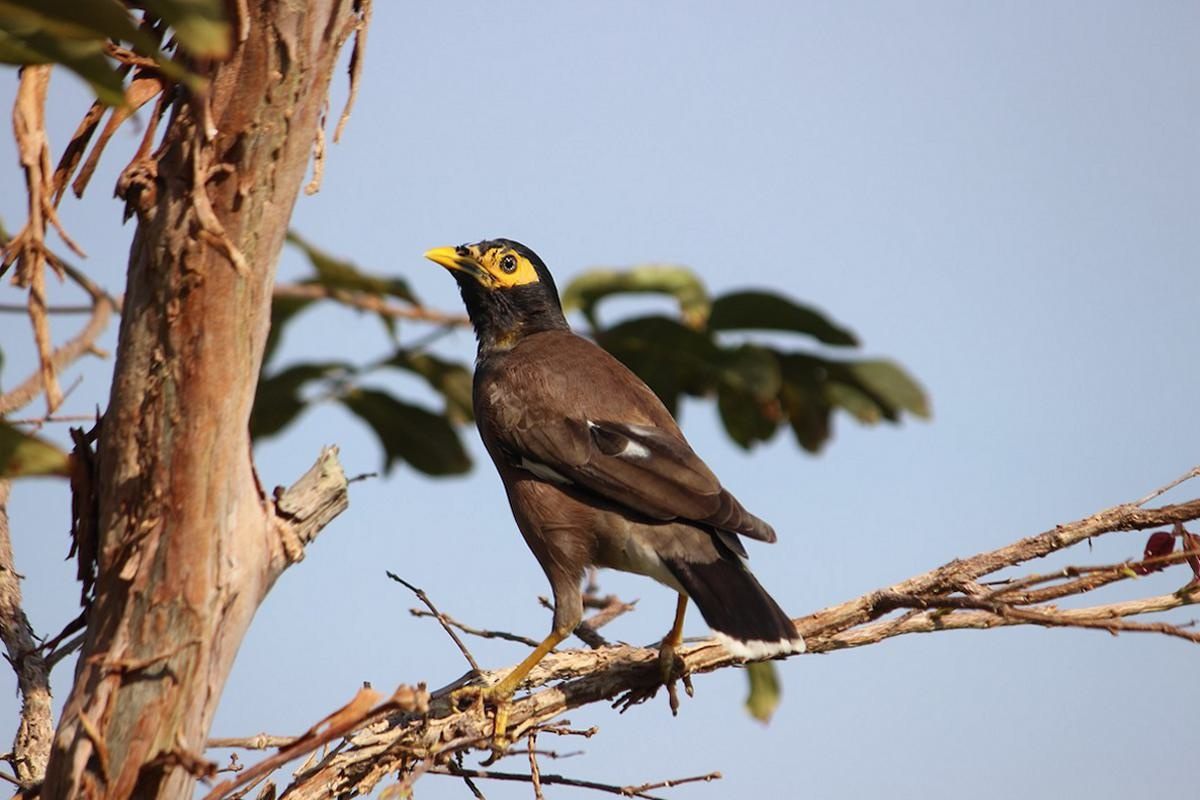myna: (394, 214, 788, 712)
